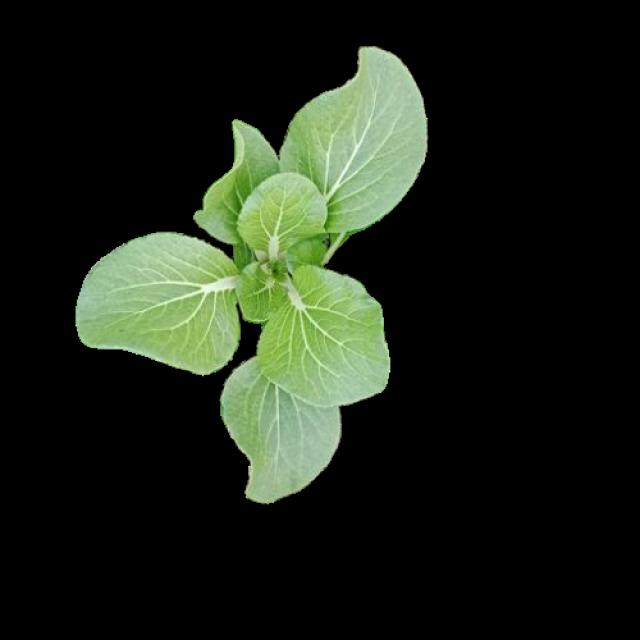healthy: (88, 46, 442, 516)
not-mature: (82, 41, 434, 511)
